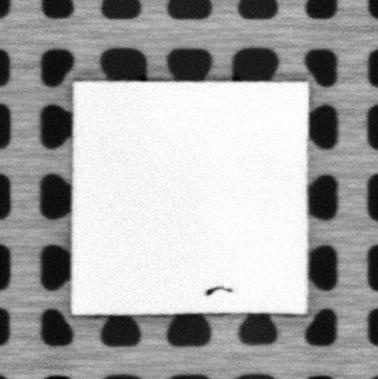DIE_INK: (205, 283, 232, 297)
